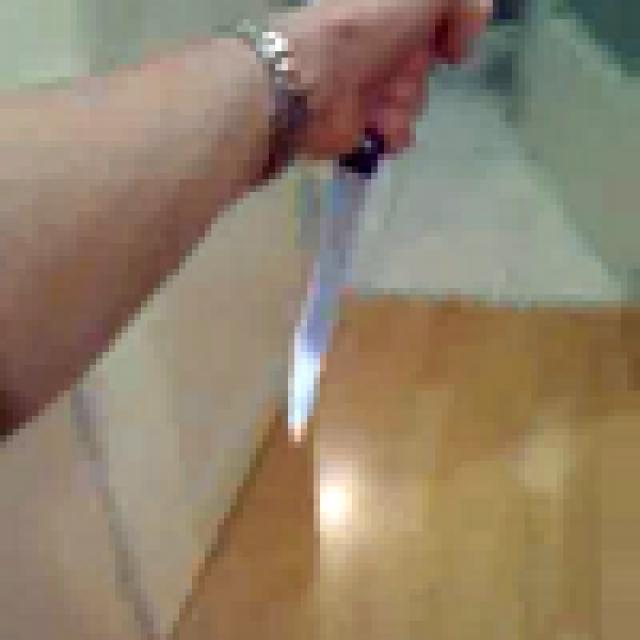knife: (249, 0, 473, 454)
